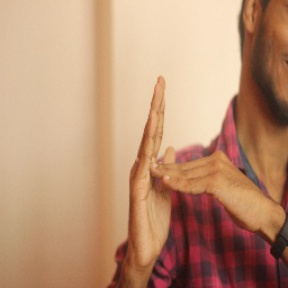Z: (123, 71, 265, 261)
